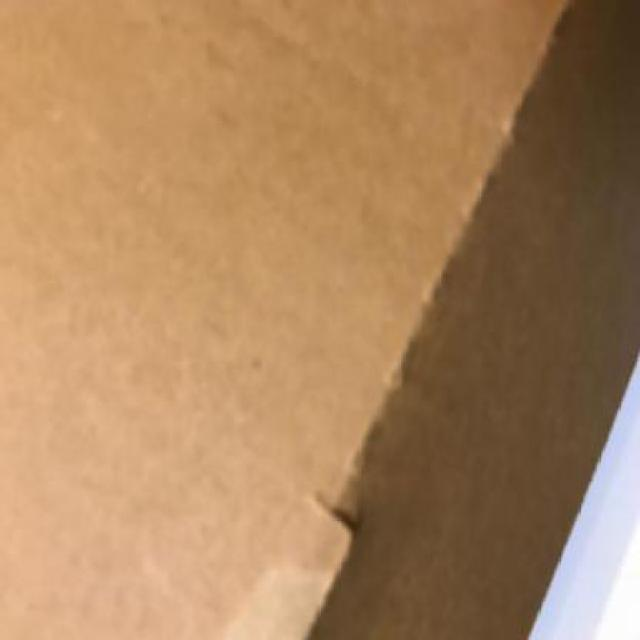CARDBOARD: (0, 1, 638, 640)
